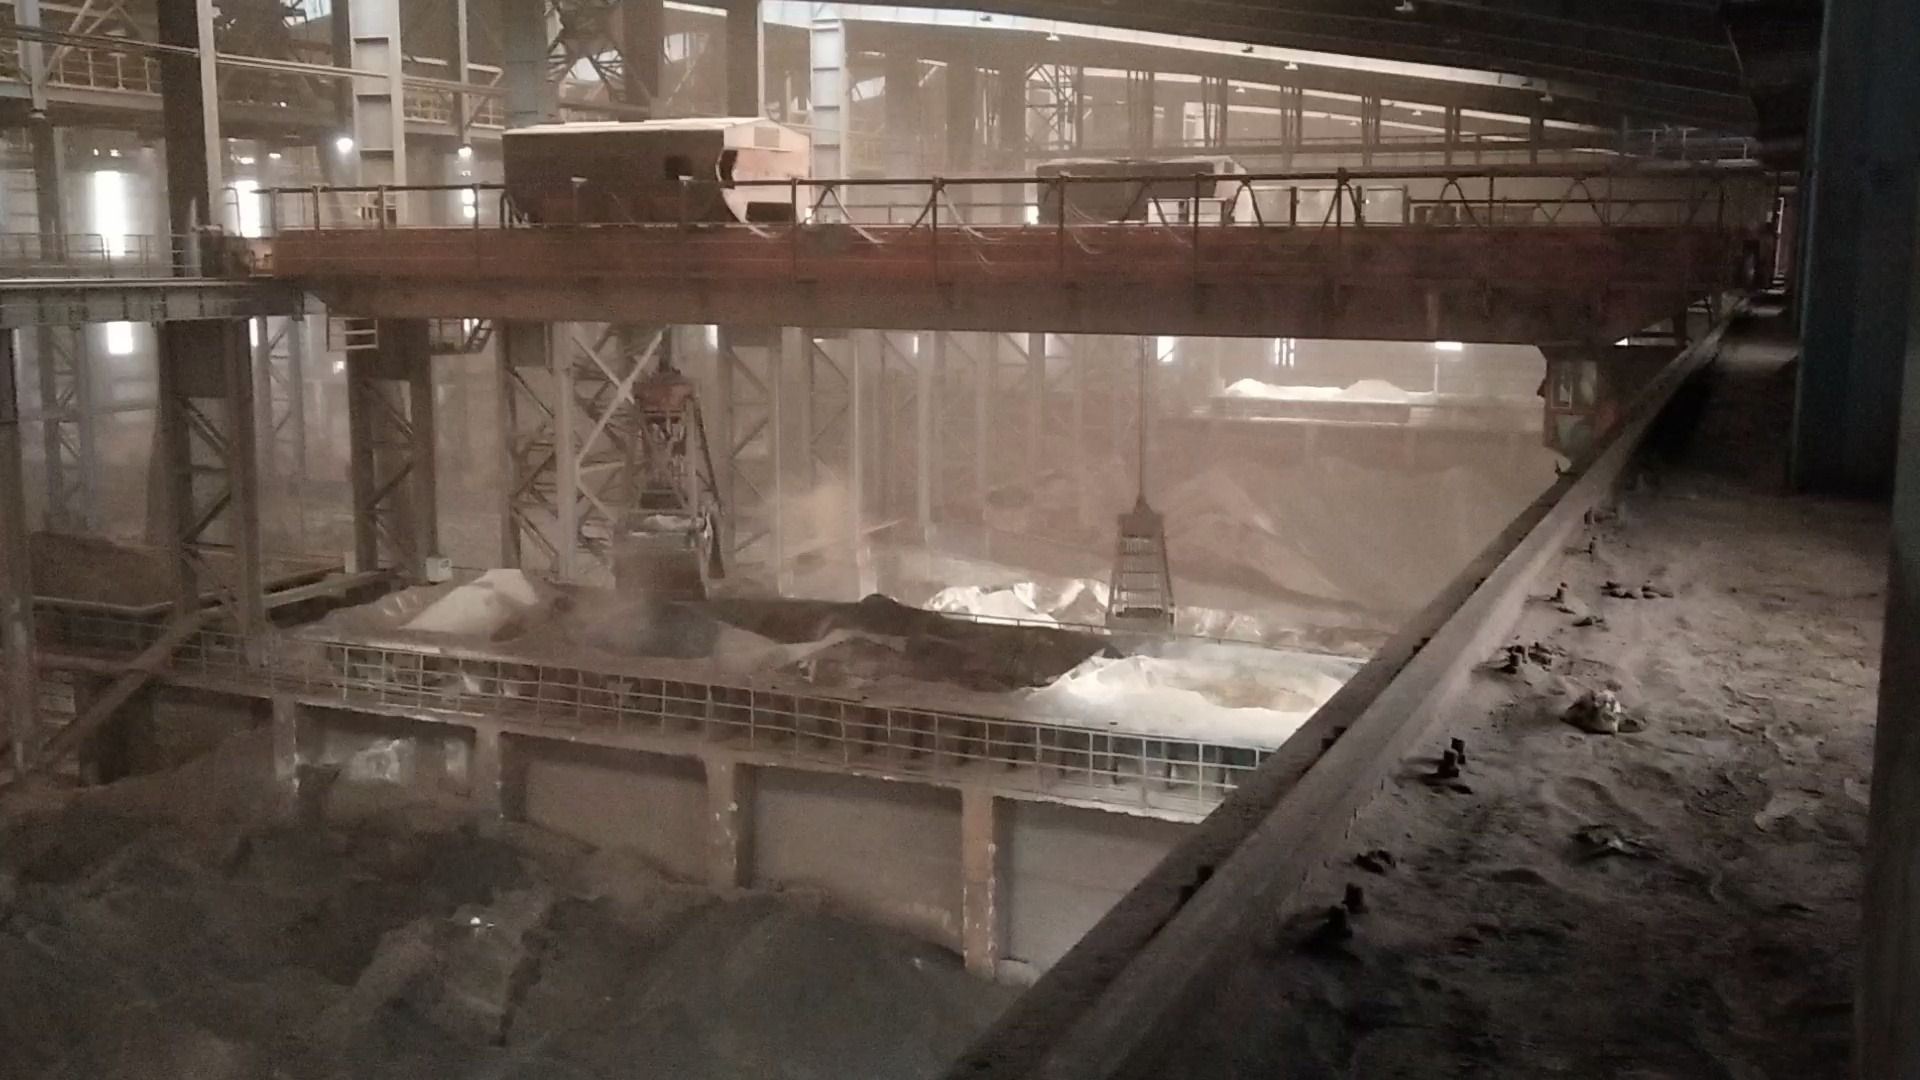dust: (752, 456, 870, 607)
grab: (601, 357, 733, 611), (1095, 491, 1183, 654)
